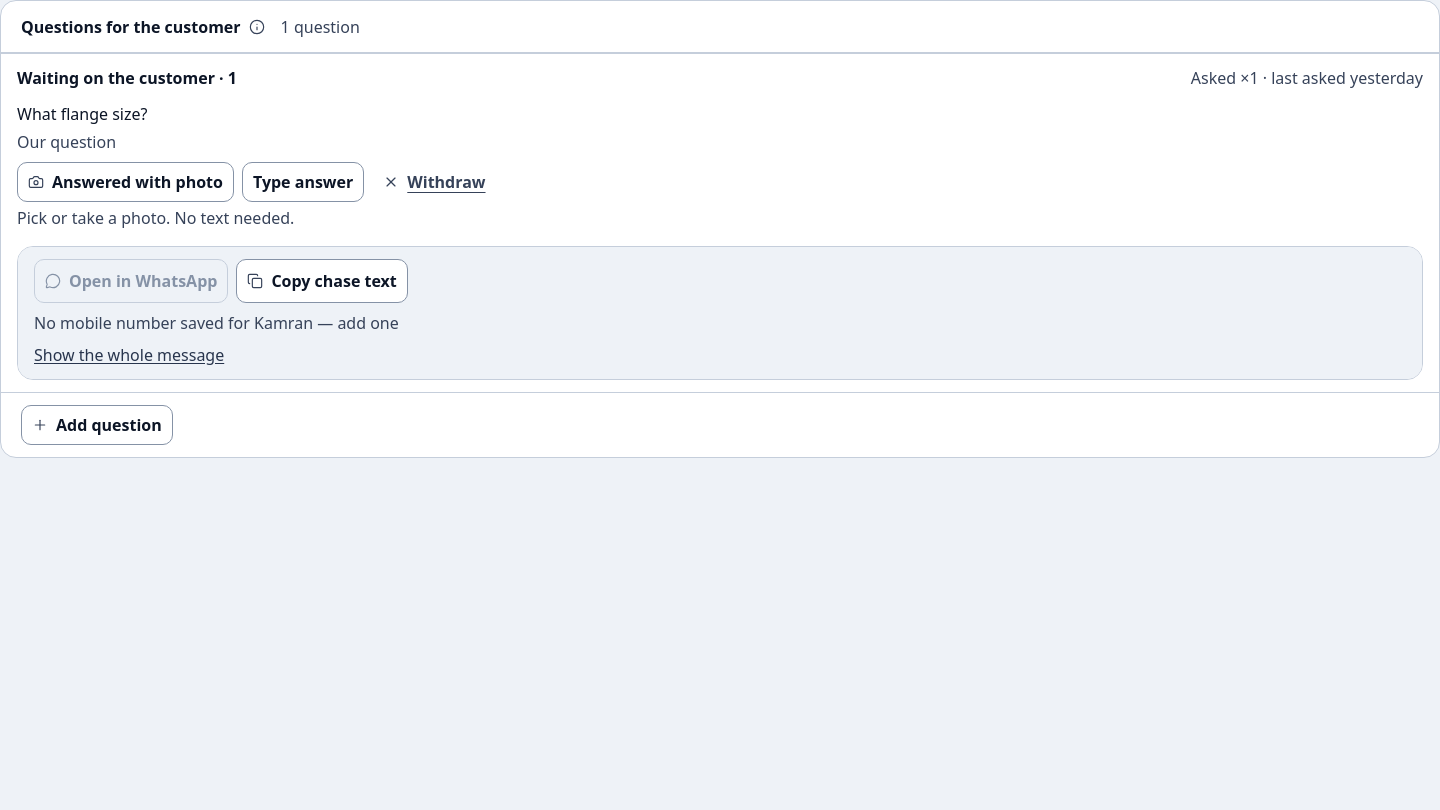
Test: ClarificationsPanel copy and mark asked › a double tap on Copy chase text stamps the questions once, not twice
Double-click the button "Copy chase text" at (322, 281), box [236,259,408,303]
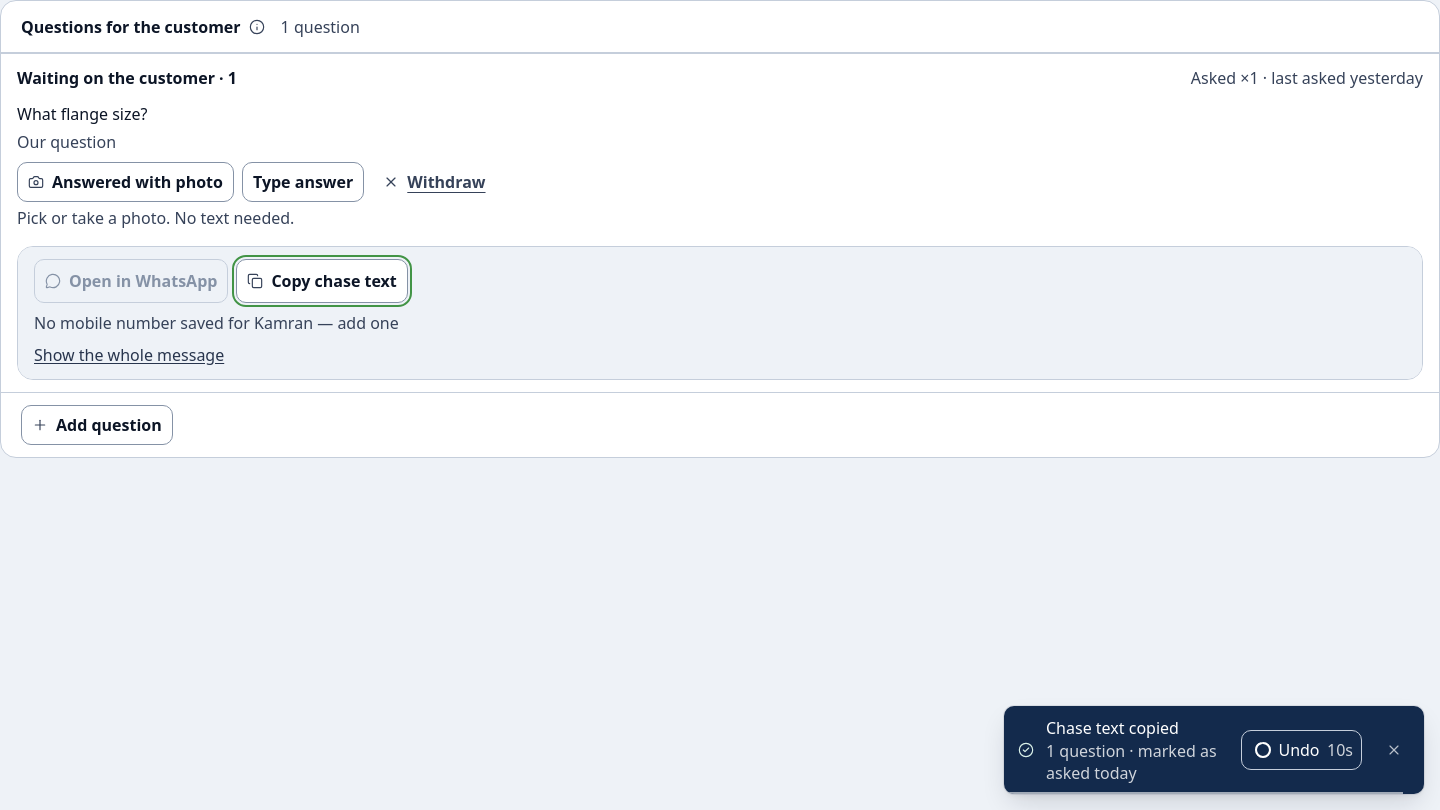
Expected: the text "Chase text copied" is shown, [1046,717,1179,739]
